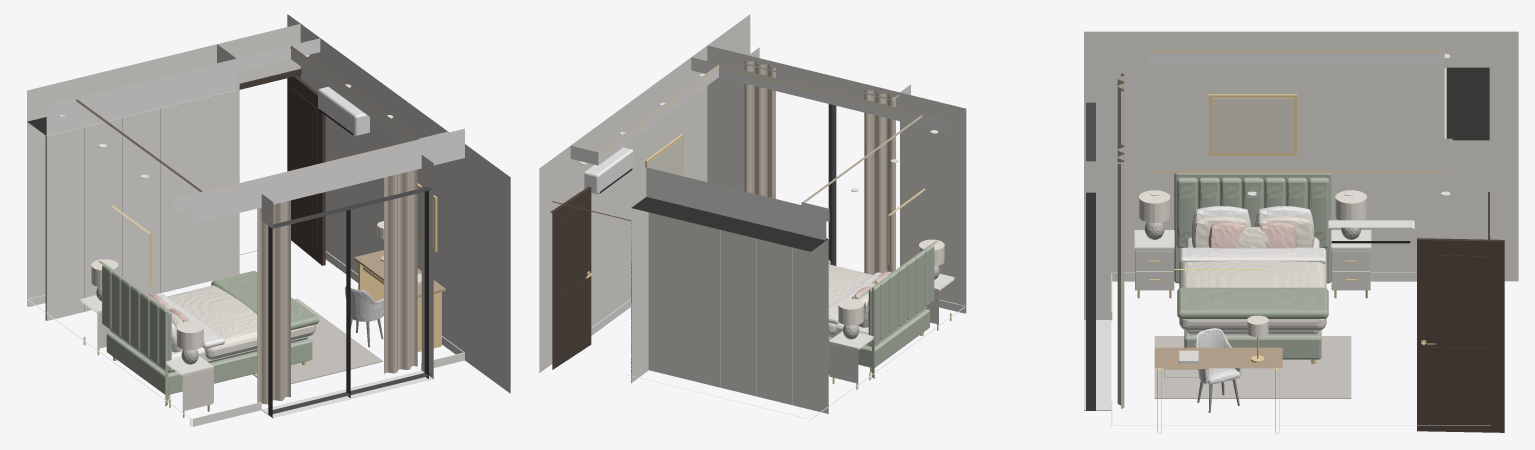
File: ROOM3.glb
3 views of the same model, side by side, from view 1: azimuth 30°, elevation 25°; view 2: azimuth 150°, elevation 25°; view 3: azimuth 270°, elevation 25° (orthographic). The views are drawn at different scales.
Visible parts, largest first — view 1: WEB_ROOM3; view 2: WEB_ROOM3; view 3: WEB_ROOM3.
Boxes of the visible parts, x1,y1,x2,y2 form: WEB_ROOM3: (26,14,510,426); WEB_ROOM3: (539,14,966,420); WEB_ROOM3: (1084,31,1518,433).
Size of the model in its own units: 3.79 by 3 by 5.23.
